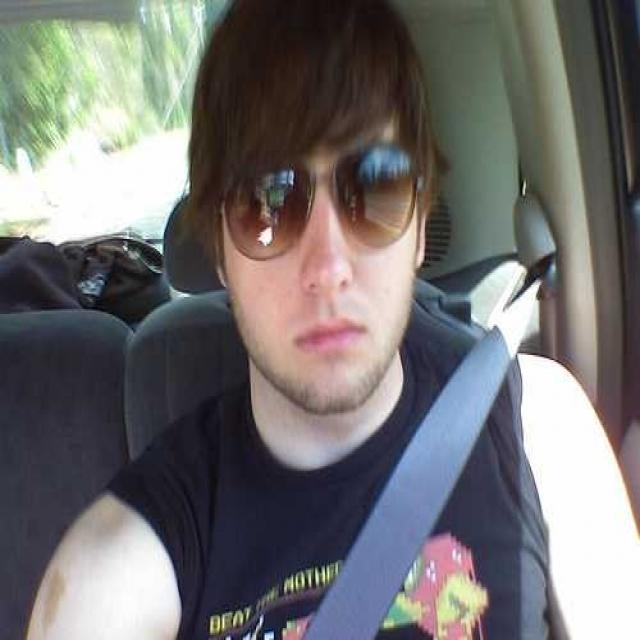seatbelt: (289, 241, 548, 624)
